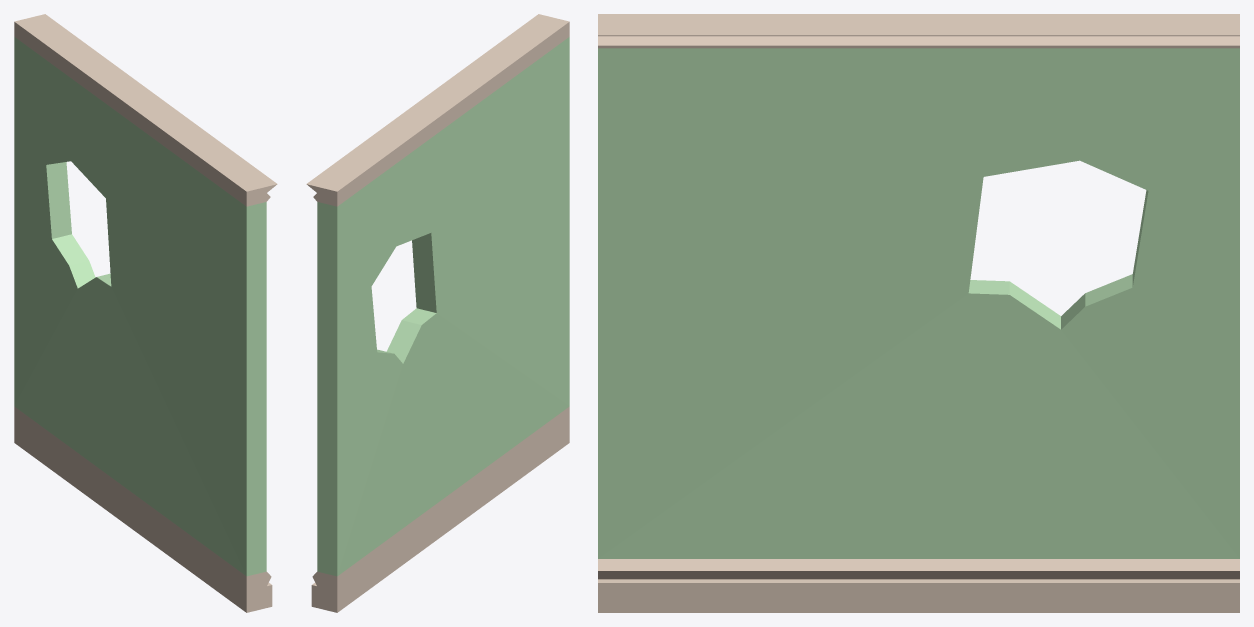
Rendered from Wall_SmallHole5.fbx.
The picture shows the model from 3 angles, left to right: view 1: azimuth 30°, elevation 25°; view 2: azimuth 150°, elevation 25°; view 3: azimuth 270°, elevation 25°; orthographic projection. The views are drawn at different scales.
Visible parts, largest first — view 1: Cube; view 2: Cube; view 3: Cube.
Boxes of the visible parts, x1,y1,x2,y2 form: Cube: (14,14,277,612); Cube: (306,14,569,612); Cube: (598,14,1239,612).
Bounding box in the file's own units: 64.02 × 800 × 800.
